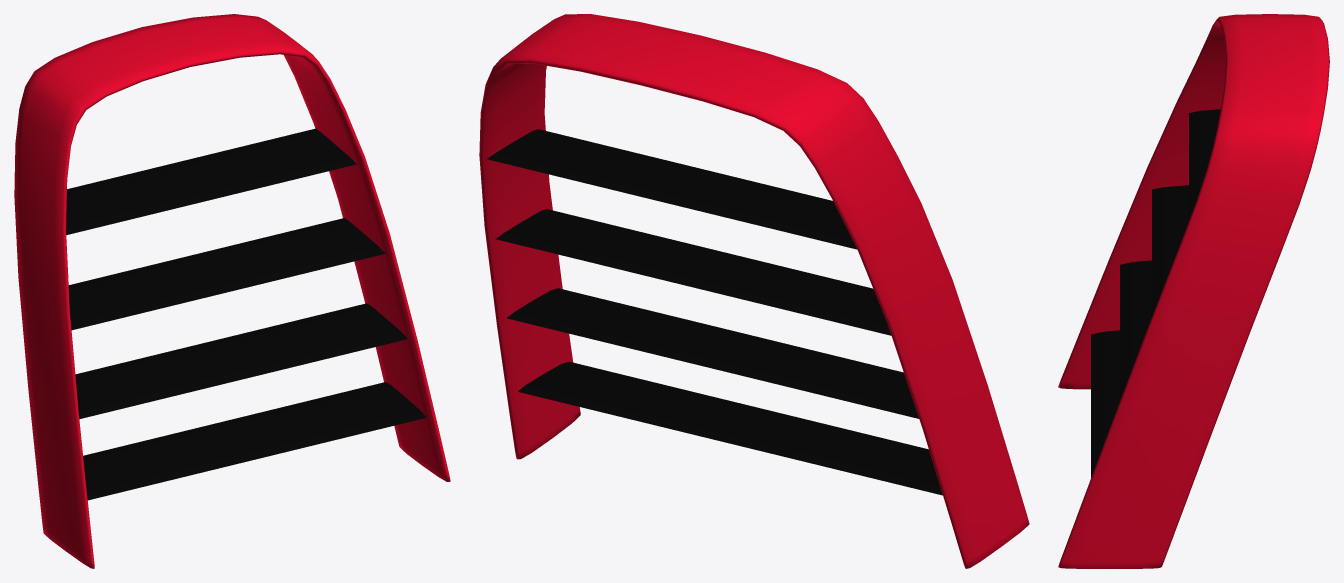
Rendered from SpoilerWildAndCrazy.fbx.
3 views of the same model, side by side, from view 1: azimuth 30°, elevation 25°; view 2: azimuth 150°, elevation 25°; view 3: azimuth 270°, elevation 25° (orthographic). The views are drawn at different scales.
Parts seen in each view (by area): view 1: Cube, Cube.002, Cube.005, Cube.003, Cube.001; view 2: Cube, Cube.002, Cube.005, Cube.003, Cube.001; view 3: Cube, Cube.002, Cube.005, Cube.003, Cube.001.
Boxes of the visible parts, bbox=[...] form: Cube: bbox=[14, 14, 450, 568]; Cube.002: bbox=[83, 382, 426, 500]; Cube.005: bbox=[75, 303, 407, 419]; Cube.003: bbox=[68, 218, 385, 330]; Cube.001: bbox=[66, 128, 356, 234]; Cube: bbox=[479, 14, 1029, 568]; Cube.002: bbox=[518, 361, 942, 495]; Cube.005: bbox=[507, 288, 918, 418]; Cube.003: bbox=[495, 209, 891, 335]; Cube.001: bbox=[487, 129, 857, 249]; Cube: bbox=[1058, 14, 1329, 568]; Cube.002: bbox=[1091, 330, 1119, 477]; Cube.005: bbox=[1120, 260, 1151, 400]; Cube.003: bbox=[1152, 185, 1188, 316]; Cube.001: bbox=[1189, 109, 1220, 220].
Size of the model in its own units: 206 by 220 by 129.
